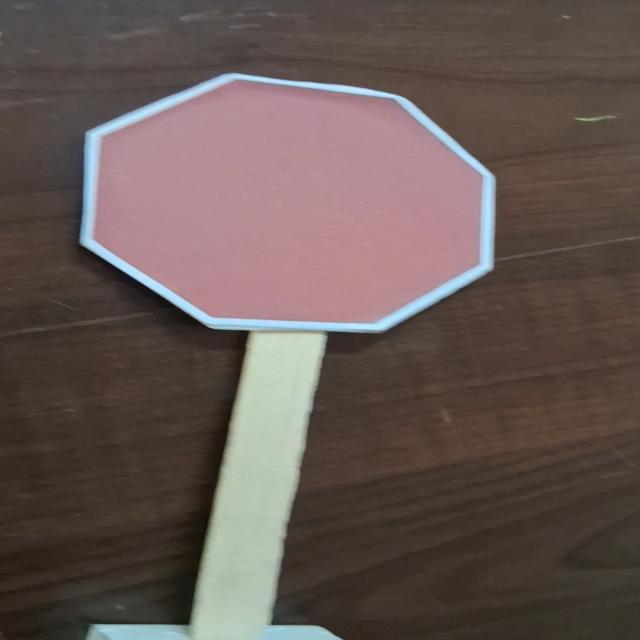Stop: (78, 66, 508, 334)
